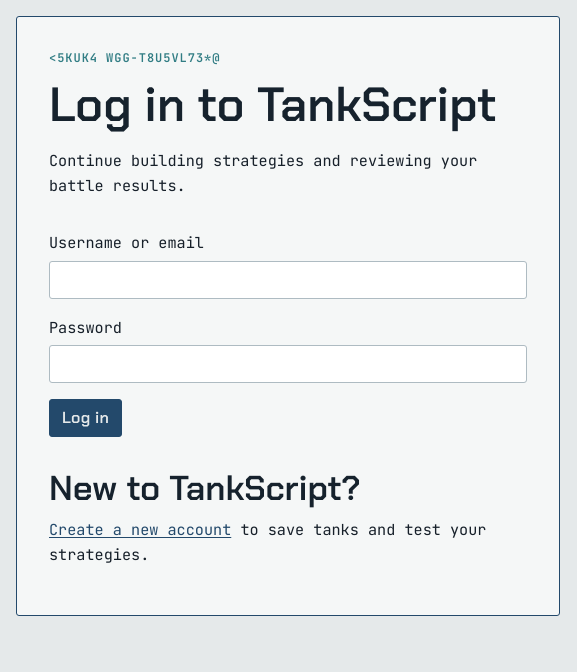
Test: authentication forms › logs in and reports the authenticated username
Type "pilot@example.test" into the field labelled "Username or email" at (288, 280), box [49, 261, 527, 299]
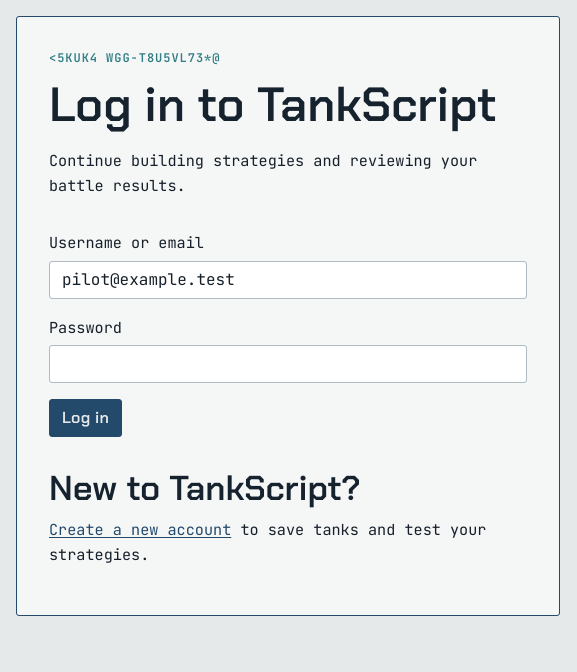
Type "secret" into the password field labelled "Password" at (288, 364), box [49, 346, 527, 384]
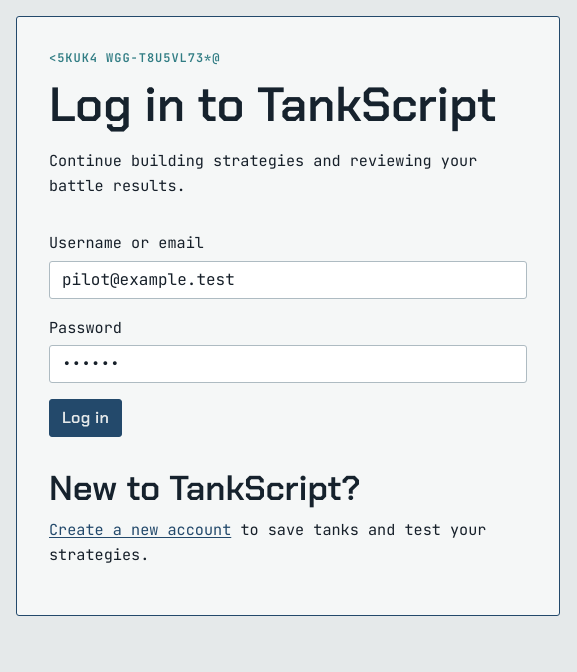
Click the button "Log in" at (86, 418), box [49, 400, 122, 438]
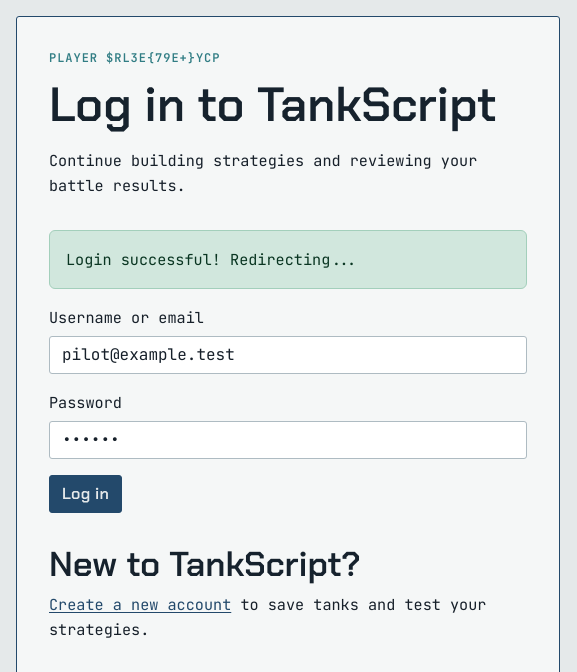
Expected: the message shows "Login successful", [66, 249, 358, 270]
